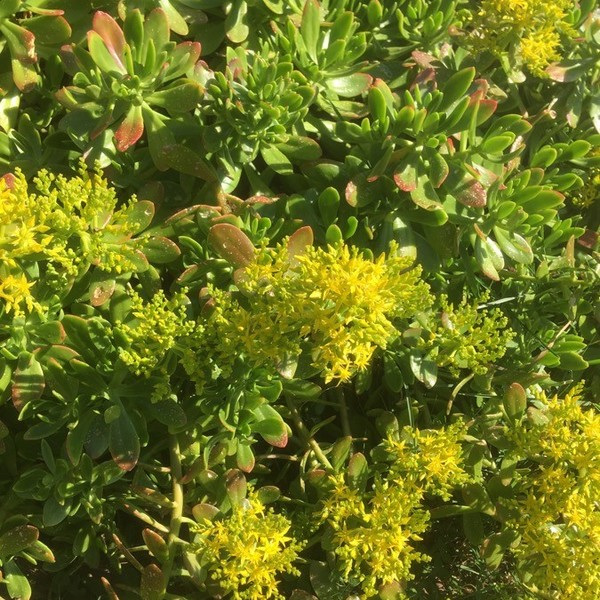obstacle: (61, 53, 534, 556)
